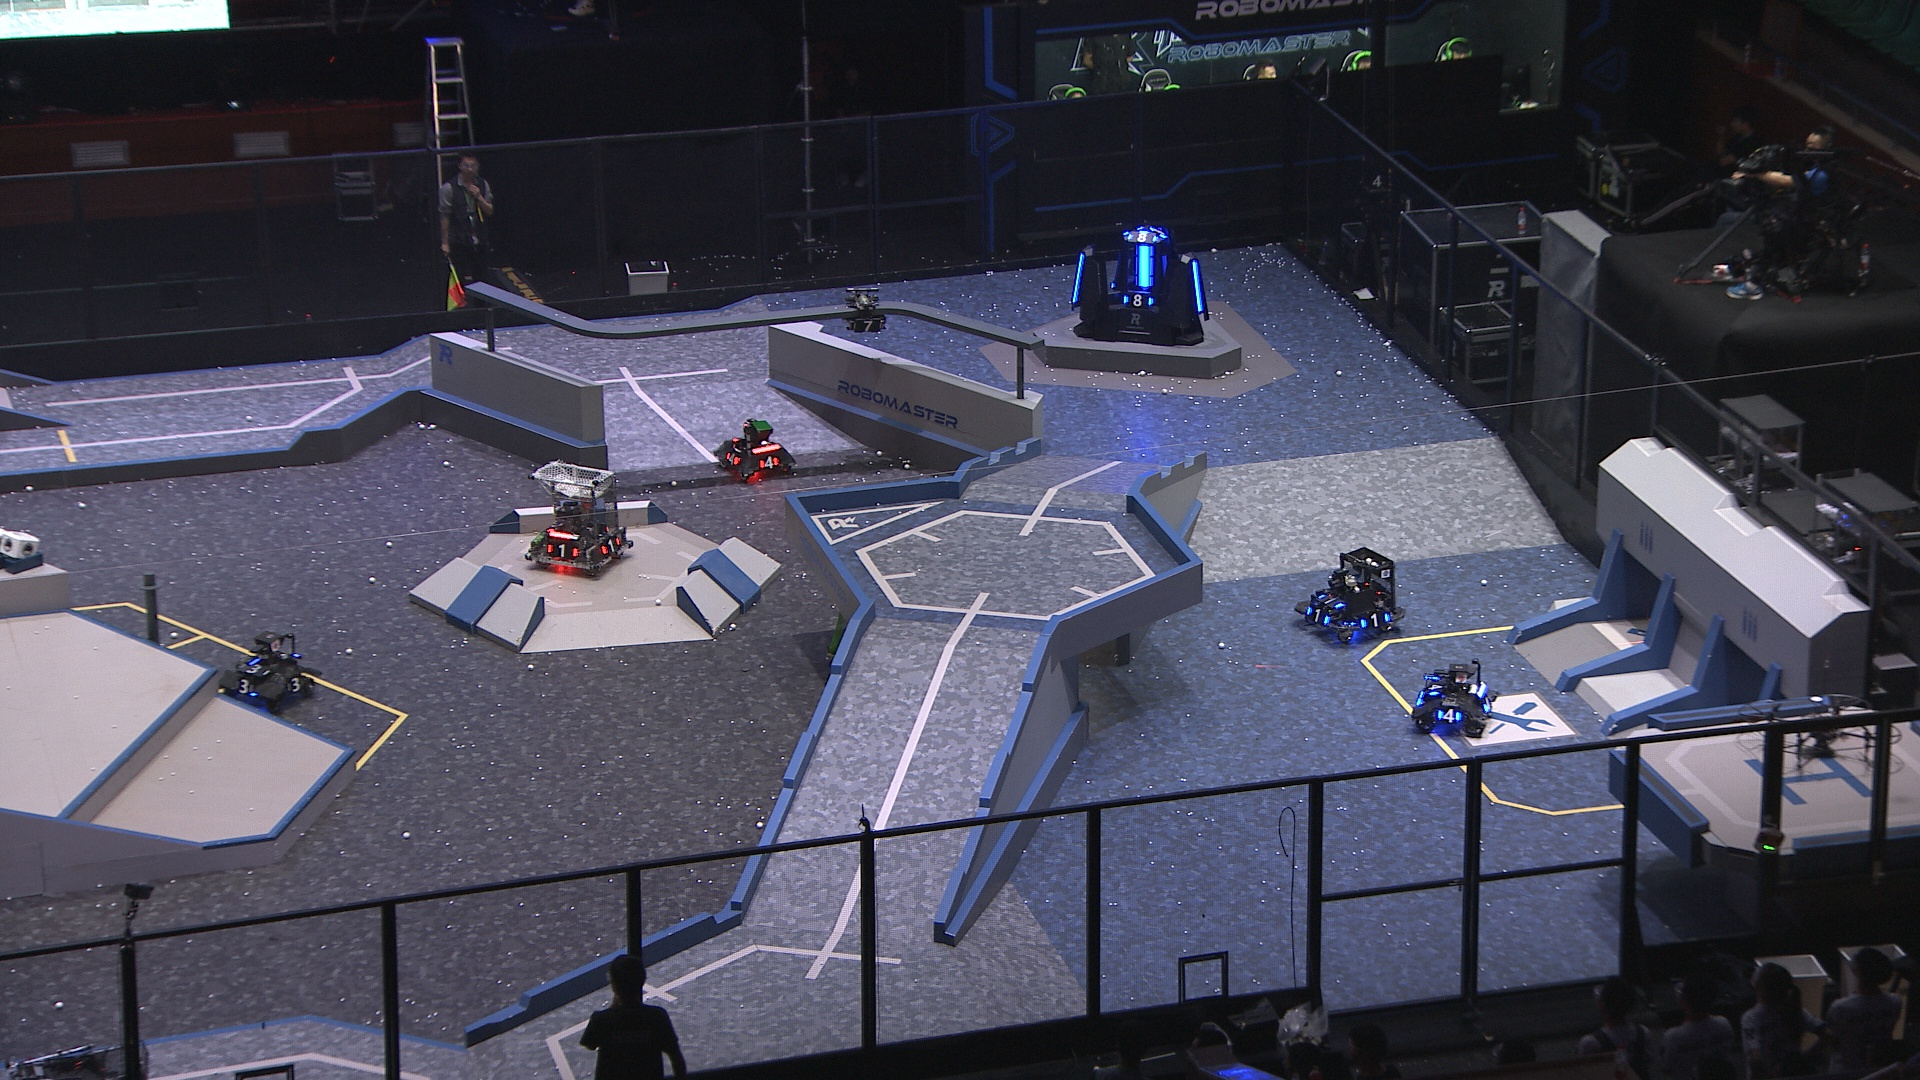armor: (1069, 252, 1087, 305), (1134, 244, 1154, 289), (1191, 258, 1205, 314), (235, 661, 272, 679), (1304, 604, 1333, 626), (1358, 611, 1393, 629), (545, 542, 580, 559), (1120, 291, 1154, 309), (1319, 591, 1346, 611), (1126, 229, 1159, 245), (852, 318, 885, 334), (599, 535, 622, 556), (1436, 705, 1462, 723), (233, 678, 257, 695), (286, 674, 306, 694), (757, 454, 781, 469), (723, 450, 742, 467), (1425, 680, 1444, 695), (1480, 694, 1493, 713), (1159, 253, 1168, 277)
base: (1067, 223, 1211, 347)
car: (524, 456, 636, 576), (1290, 546, 1406, 644), (215, 632, 319, 717), (1408, 655, 1501, 737), (1, 1038, 153, 1080), (713, 417, 798, 484)
watcher: (843, 286, 889, 335)
